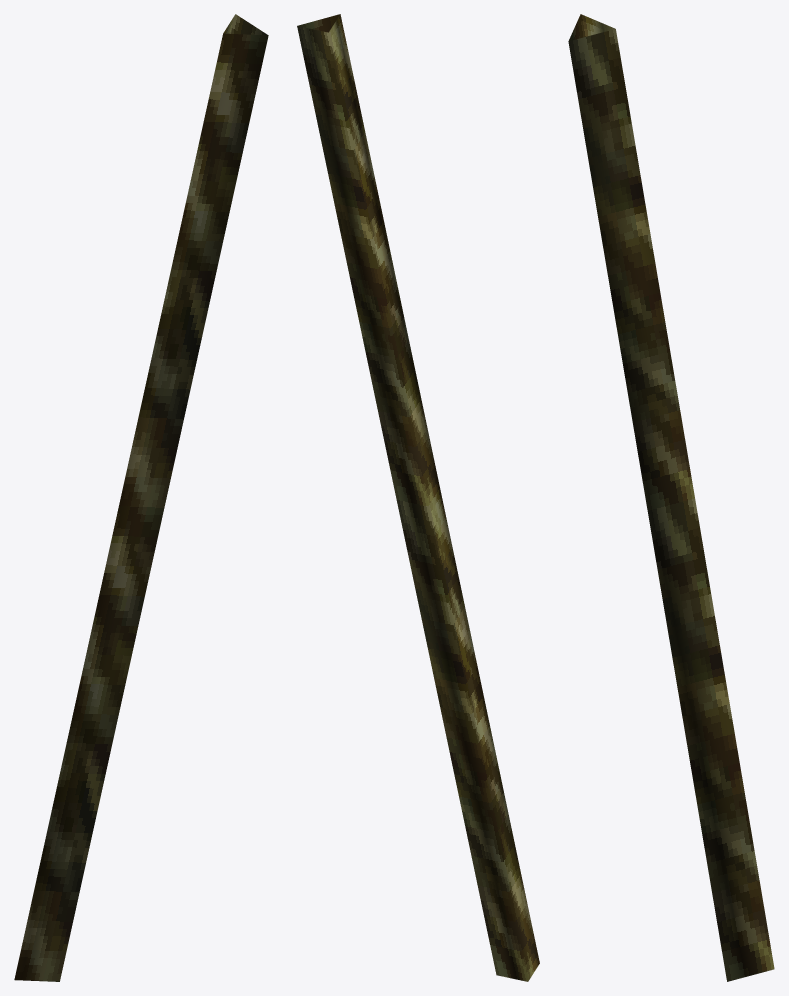
Rendered from OVERHILL_A_01_ROPE_LINE_15.fbx.
The picture shows the model from 3 angles, left to right: view 1: azimuth 30°, elevation 25°; view 2: azimuth 210°, elevation 25°; view 3: azimuth 270°, elevation 25°; orthographic projection. The views are drawn at different scales.
Parts seen in each view (by area): view 1: OVERHILL_A_01_ROPE_LINE_15; view 2: OVERHILL_A_01_ROPE_LINE_15; view 3: OVERHILL_A_01_ROPE_LINE_15.
Boxes of the visible parts, x1,y1,x2,y2 form: OVERHILL_A_01_ROPE_LINE_15: (14, 14, 268, 981); OVERHILL_A_01_ROPE_LINE_15: (297, 14, 539, 981); OVERHILL_A_01_ROPE_LINE_15: (568, 14, 774, 981).
Bounding box in the file's own units: 1961 × 10651 × 1961.
Materials: 1 (1 with a texture image).
